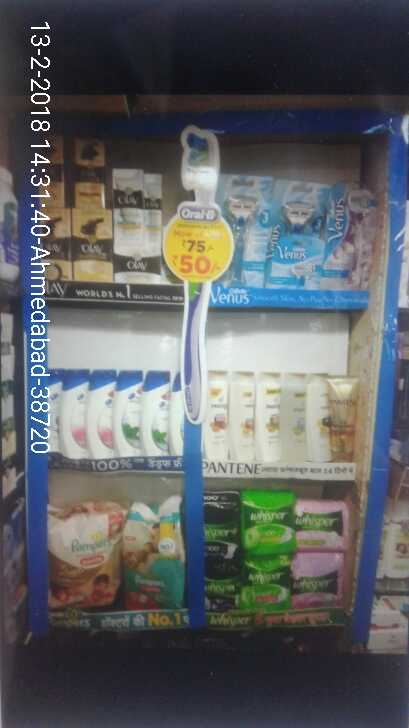venus: (321, 182, 376, 288), (269, 179, 321, 288), (224, 179, 269, 283)
